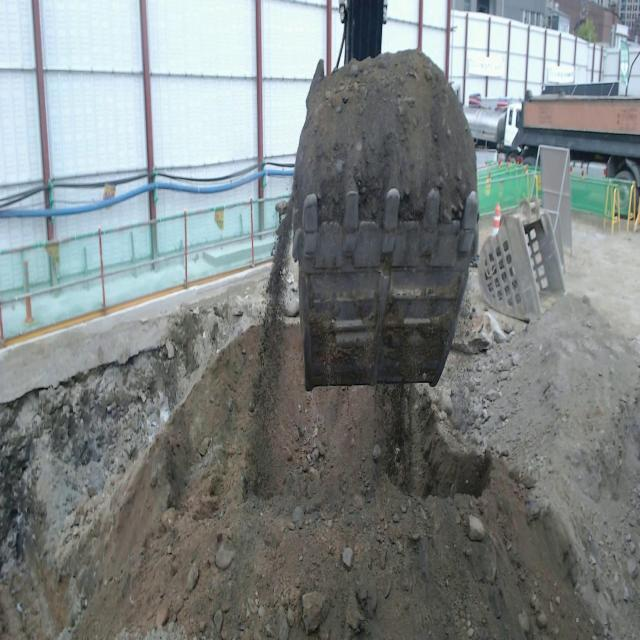red-sand: (26, 327, 590, 639), (289, 49, 477, 228)
white-sand: (481, 295, 640, 639)
